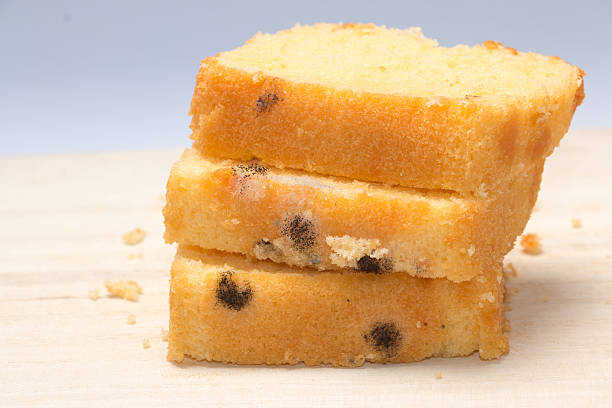mold_bread: (357, 318, 415, 362), (224, 155, 277, 200), (211, 268, 256, 316), (347, 246, 395, 283), (277, 214, 320, 255), (253, 85, 286, 116)
